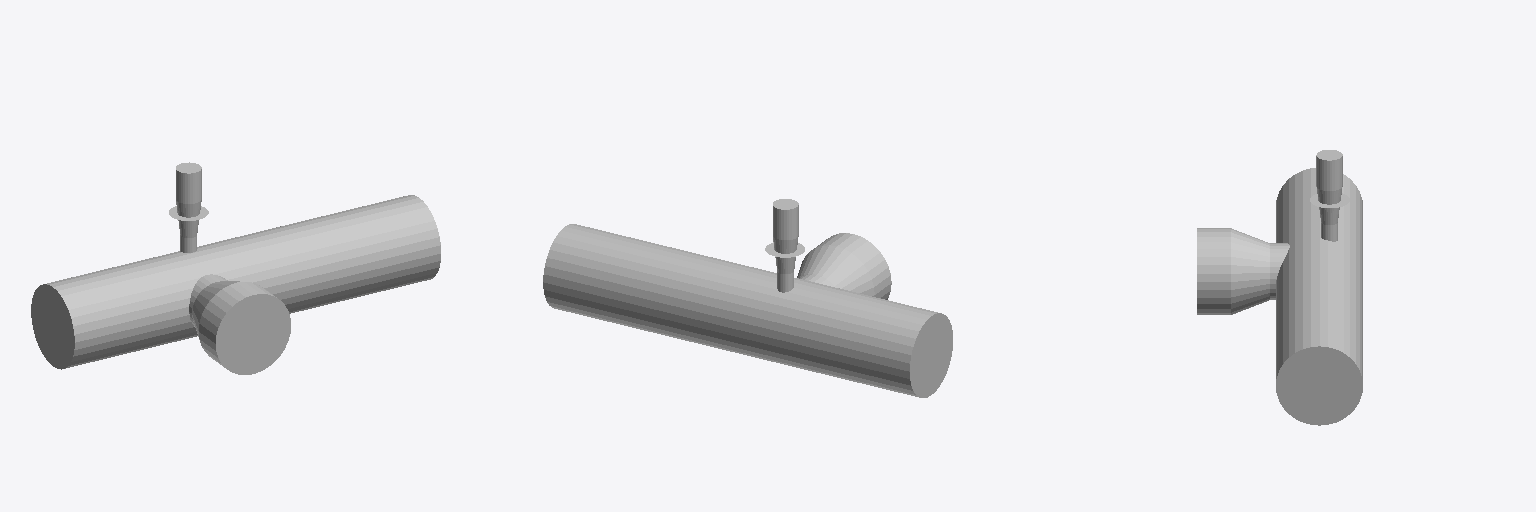
File: Knob.obj
3 views of the same model, side by side, from view 1: azimuth 30°, elevation 25°; view 2: azimuth 150°, elevation 25°; view 3: azimuth 270°, elevation 25° (orthographic).
Visible parts, largest first — view 1: Cylinder; view 2: Cylinder; view 3: Cylinder.
Part boxes in pixels (x1,y1,x2,y2): Cylinder: (31, 162, 440, 374); Cylinder: (543, 199, 952, 397); Cylinder: (1197, 150, 1362, 425).
Size of the model in its own units: 0.9414 by 0.3937 by 0.3703.